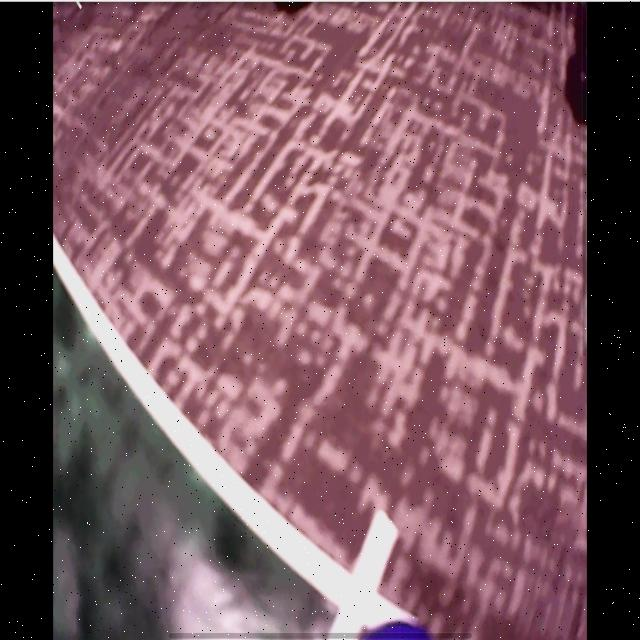ball: (365, 622, 431, 640)
